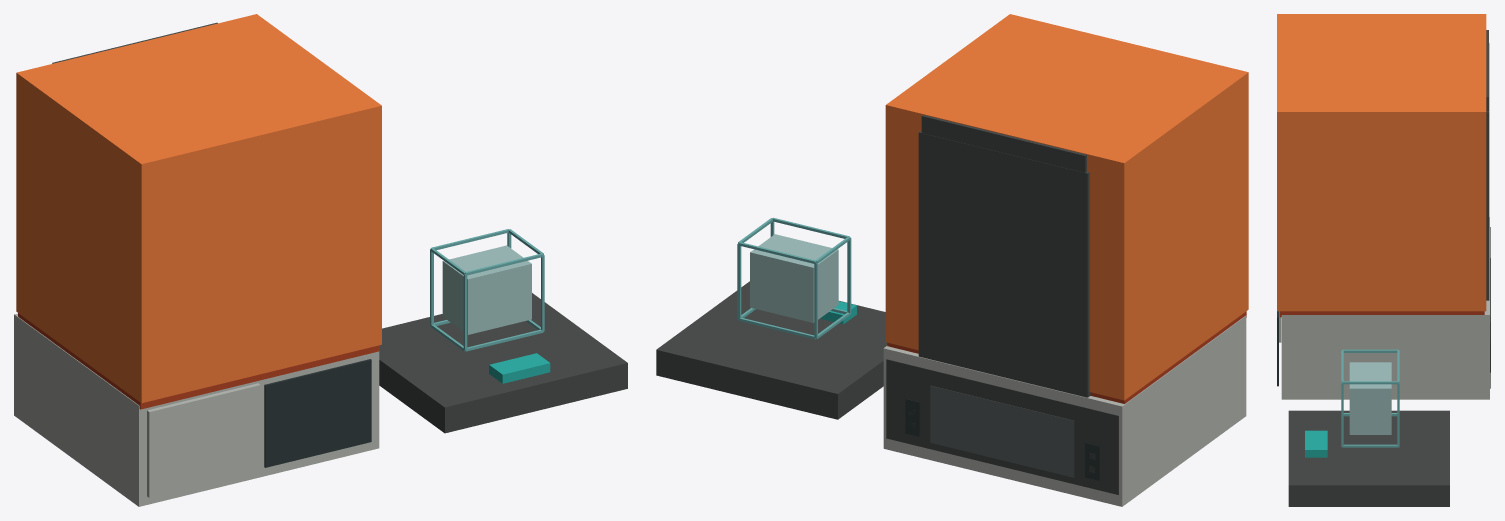
The model's file is form4-static.glb.
3 views of the same model, side by side, from view 1: azimuth 30°, elevation 25°; view 2: azimuth 150°, elevation 25°; view 3: azimuth 270°, elevation 25° (orthographic). The views are drawn at different scales.
Parts seen in each view (by area): view 1: closed_orange_outer_hood, standalone_demo_base, lower_grey_outer_shell, front_neutral_fascia, blank_front_touchscreen, detached_demo_block, flat_external_lower_hood_rim, detached_position_switch; view 2: closed_orange_outer_hood, dark_rear_main_shroud, lower_grey_outer_shell, standalone_demo_base, dark_rear_base_wrap, rear_grille_cosmetic_frame, detached_demo_block, dark_top_hinge_style_external_cap, flat_external_lower_hood_rim; view 3: closed_orange_outer_hood, lower_grey_outer_shell, standalone_demo_base, detached_demo_block, flat_external_lower_hood_rim, dark_rear_main_shroud, detached_position_switch.
Boxes of the visible parts, x1,y1,x2,y2 form: closed_orange_outer_hood: (16,14,381,403); standalone_demo_base: (379,293,627,433); lower_grey_outer_shell: (14,313,379,506); front_neutral_fascia: (147,383,260,497); blank_front_touchscreen: (264,359,371,467); detached_demo_block: (442,245,531,334); flat_external_lower_hood_rim: (18,313,379,409); detached_position_switch: (489,353,550,383); closed_orange_outer_hood: (885,14,1248,400); dark_rear_main_shroud: (918,131,1090,397); lower_grey_outer_shell: (883,315,1246,506); standalone_demo_base: (656,281,887,419); dark_rear_base_wrap: (886,359,1118,494); rear_grille_cosmetic_frame: (930,385,1074,477); detached_demo_block: (750,234,838,322); dark_top_hinge_style_external_cap: (921,115,1086,172); flat_external_lower_hood_rim: (887,311,1246,403); closed_orange_outer_hood: (1277,14,1486,311); lower_grey_outer_shell: (1281,217,1489,399); standalone_demo_base: (1288,410,1449,506); detached_demo_block: (1349,362,1391,434); flat_external_lower_hood_rim: (1279,311,1484,317); dark_rear_main_shroud: (1486,43,1489,300); detached_position_switch: (1305,430,1327,457).
Bounding box in the file's own units: 0.8165 × 0.554 × 0.367.
